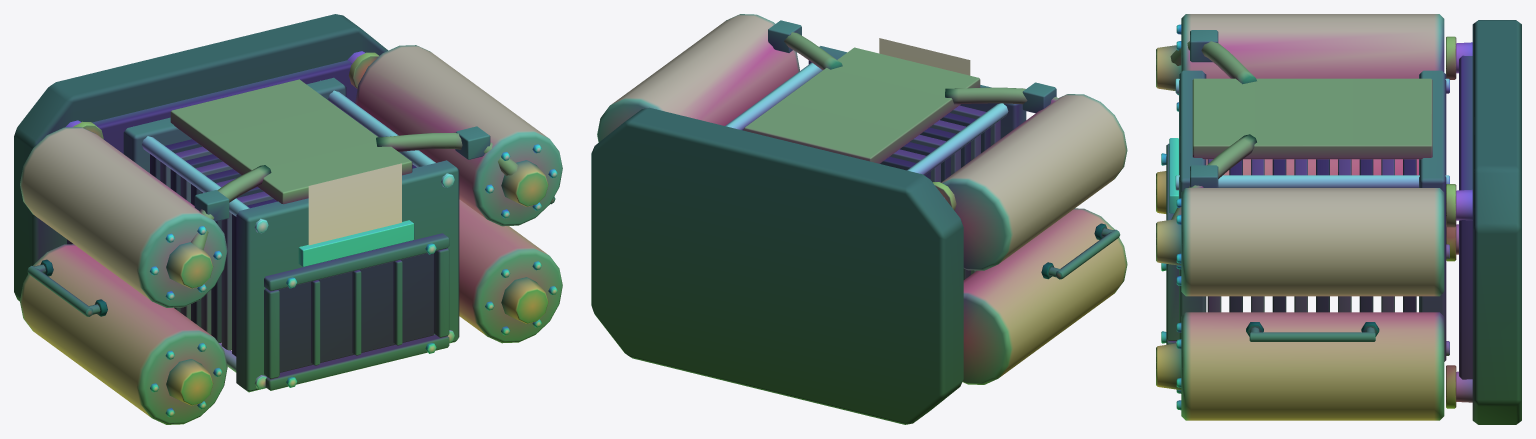
The model's file is gen_pem_fuelcell.glb.
3 views of the same model, side by side, from view 1: azimuth 30°, elevation 25°; view 2: azimuth 150°, elevation 25°; view 3: azimuth 270°, elevation 25° (orthographic). The views are drawn at different scales.
Parts seen in each view (by area): view 1: Body__armor, Body__dark, Body__gunmetal, Body__copper, Body__brass, Body__chrome, Body__decal, Body__armor_sub, Body__emit_cyan, Body__accent; view 2: Body__dark, Body__armor, Body__copper, Body__gunmetal, Body__chrome, Body__armor_sub, Body__decal; view 3: Body__armor, Body__dark, Body__copper, Body__gunmetal, Body__chrome, Body__brass, Body__armor_sub, Body__accent, Body__emit_cyan.
Part boxes in pixels (x1,y1,x2,y2): Body__armor: (20,45,562,424); Body__dark: (14,14,433,372); Body__gunmetal: (27,60,555,392); Body__copper: (170,79,517,250); Body__brass: (166,160,548,405); Body__chrome: (65,51,557,417); Body__decal: (308,163,401,245); Body__armor_sub: (160,146,412,350); Body__emit_cyan: (298,220,414,266); Body__accent: (73,52,378,138); Body__dark: (591,107,1107,424); Body__armor: (597,14,1127,384); Body__copper: (744,32,1058,163); Body__gunmetal: (768,20,1120,279); Body__chrome: (725,62,1008,175); Body__armor_sub: (890,105,1000,274); Body__decal: (879,38,970,75); Body__armor: (1181,14,1444,420); Body__dark: (1229,20,1521,424); Body__copper: (1170,41,1432,219); Body__gunmetal: (1166,30,1472,379); Body__chrome: (1161,24,1472,410); Body__brass: (1156,45,1181,389); Body__armor_sub: (1207,159,1394,312); Body__accent: (1446,36,1456,408); Body__emit_cyan: (1169,138,1178,213).
Bounding box in the file's own units: 1.01 × 0.5 × 0.64.
